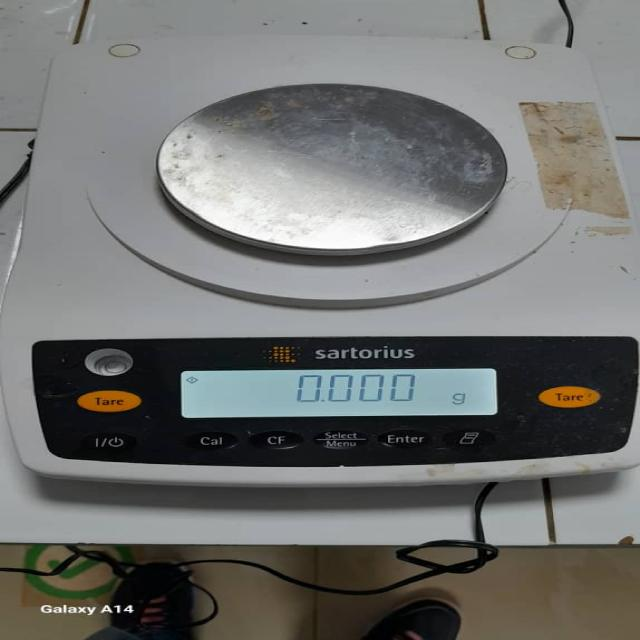Electronic balance: (6, 40, 636, 492)
